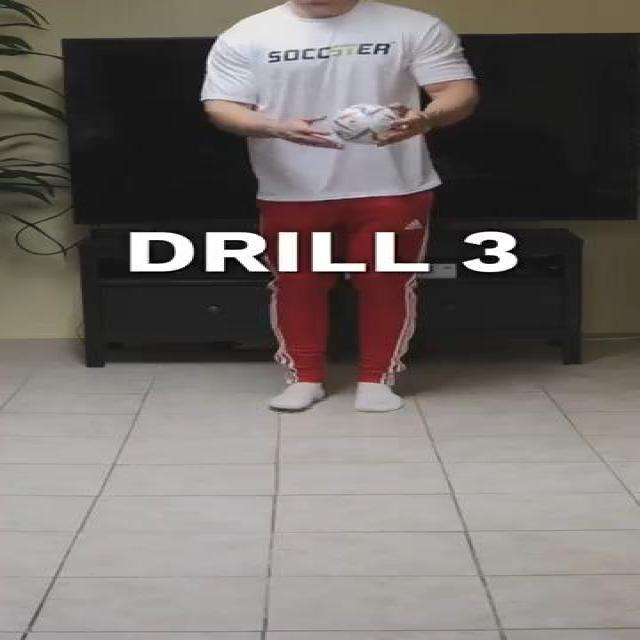Soccer Ball: (330, 101, 402, 145)
